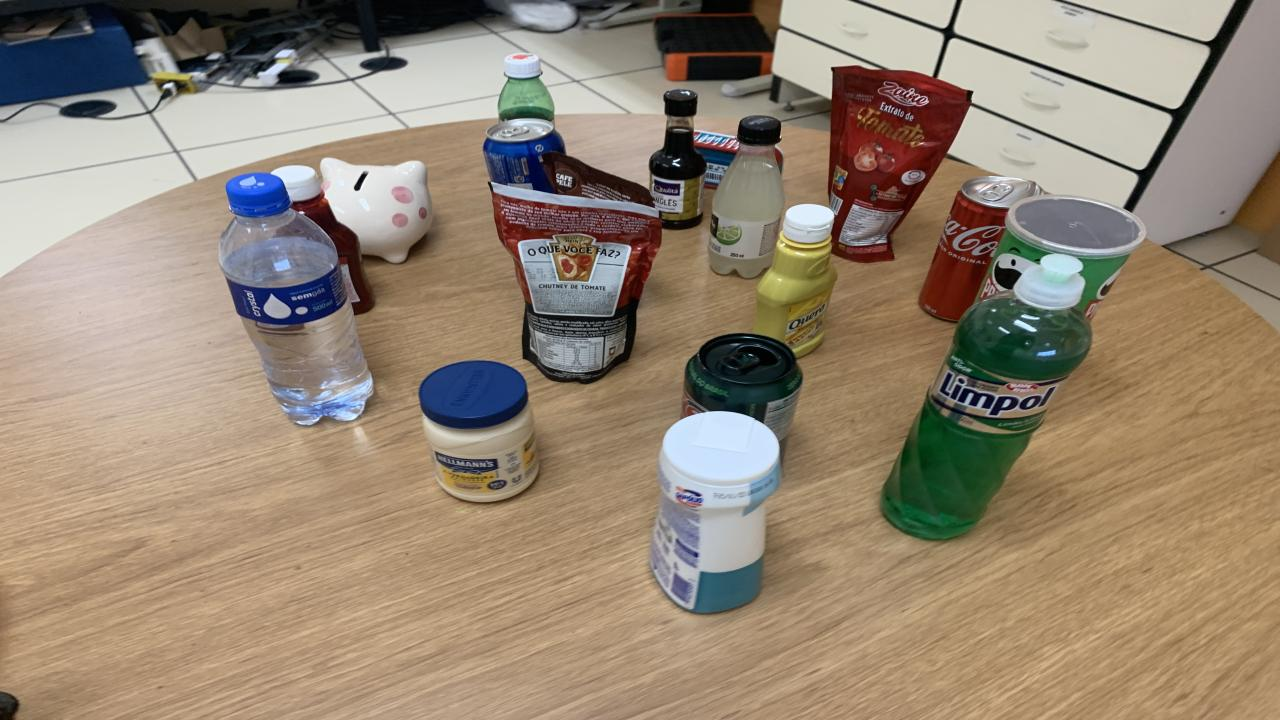Cleaner-Cleanup_Items: (650, 411, 780, 613)
Coffee-Pantry_Items: (540, 152, 655, 206)
Coke-Drinks: (920, 174, 1045, 321)
Detergent-Cleanup_Items: (882, 253, 1092, 538)
English_Sauce-Pantry_Items: (650, 90, 705, 229)
Guarana-Drinks: (498, 52, 555, 122)
Guarana_Can-Drinks: (682, 334, 802, 450)
Ketchup-Pantry_Items: (272, 165, 375, 315)
Mayonnaise-Pantry_Items: (418, 360, 538, 502)
Mustard-Pantry_Items: (755, 204, 838, 356)
Pig_Safe-Miscellaneous: (320, 158, 432, 262)
Pringles-Snacks: (978, 195, 1145, 319)
Soda-Drinks: (708, 116, 785, 278)
Tomato_Sauce-Pantry_Items: (490, 182, 662, 382), (828, 68, 970, 262)
Tonic-Drinks: (482, 118, 565, 191)
Tuna_Can-Pantry_Items: (692, 129, 740, 189), (775, 148, 782, 171)
Water_Bottle-Drinks: (218, 172, 372, 426)
